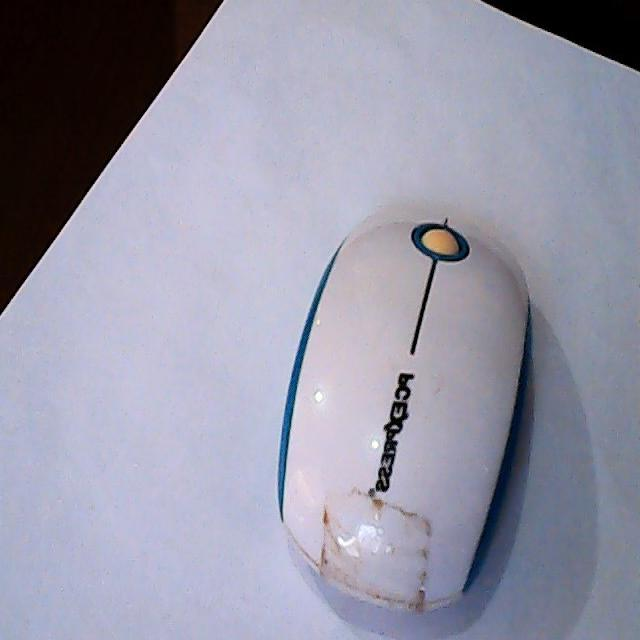mouse: (269, 227, 541, 607)
